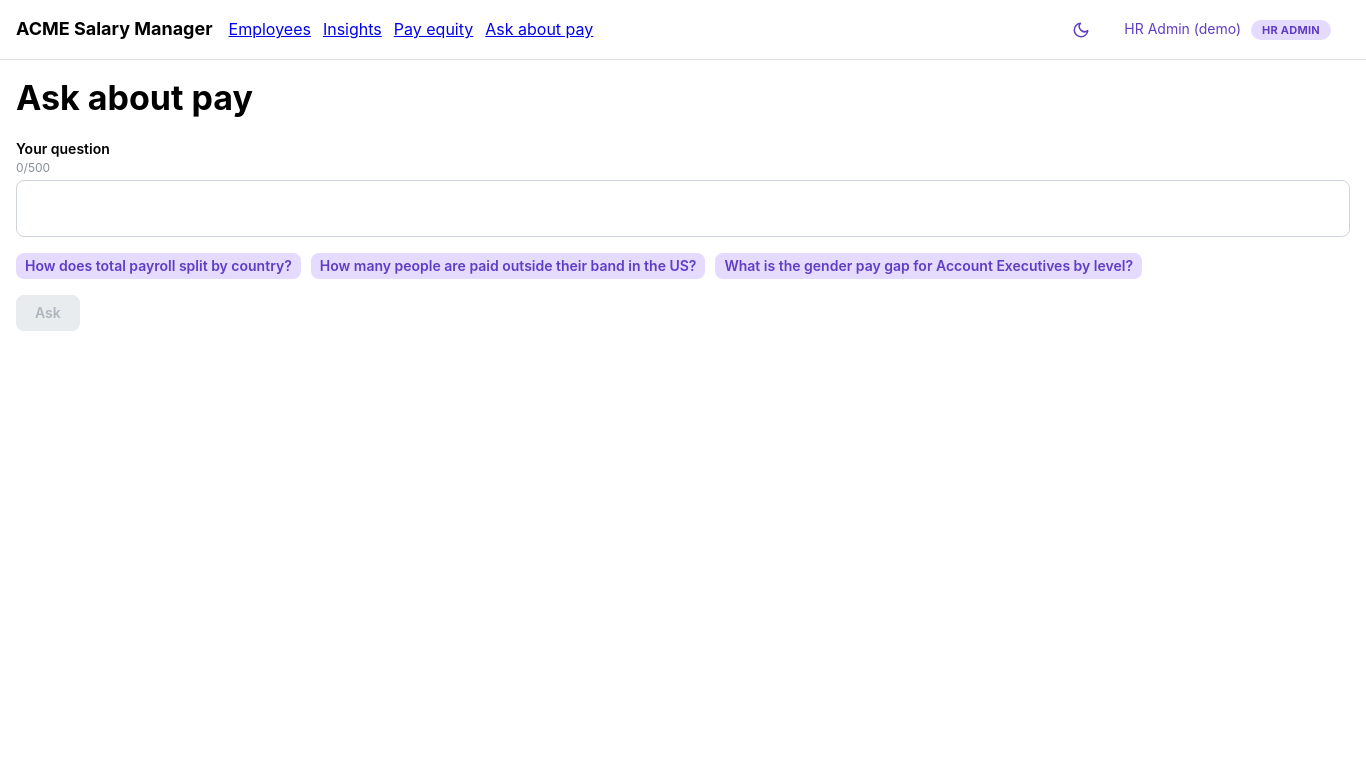
Test case: ask page (04 section 8.5, S-10) › shows the answer, the "How I read your question" list and the FX note
Type "What is the median salary for senior software engineers in India?" into the text box labelled "Your question" at point(683, 209), box 16,180 -> 1350,237
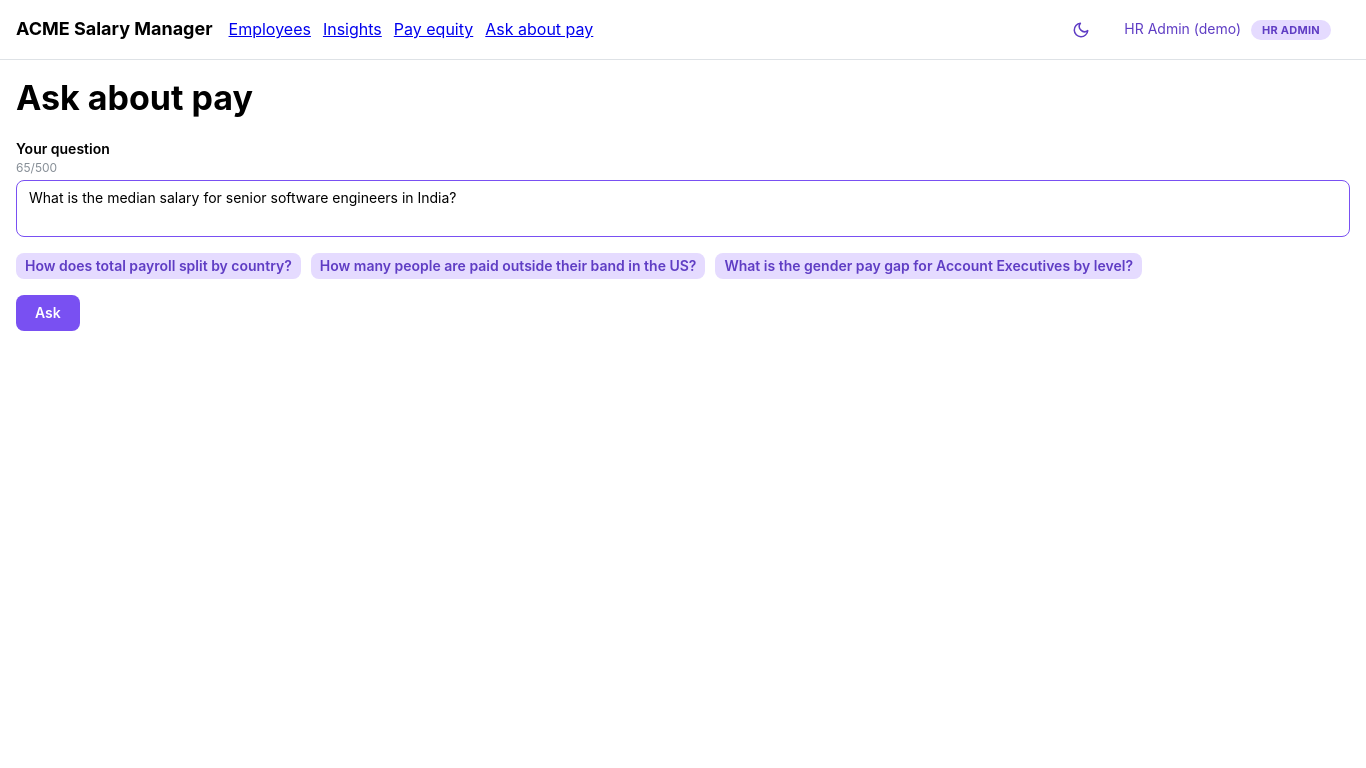
Click the button "Ask" at point(48, 313), box 16,295 -> 80,331
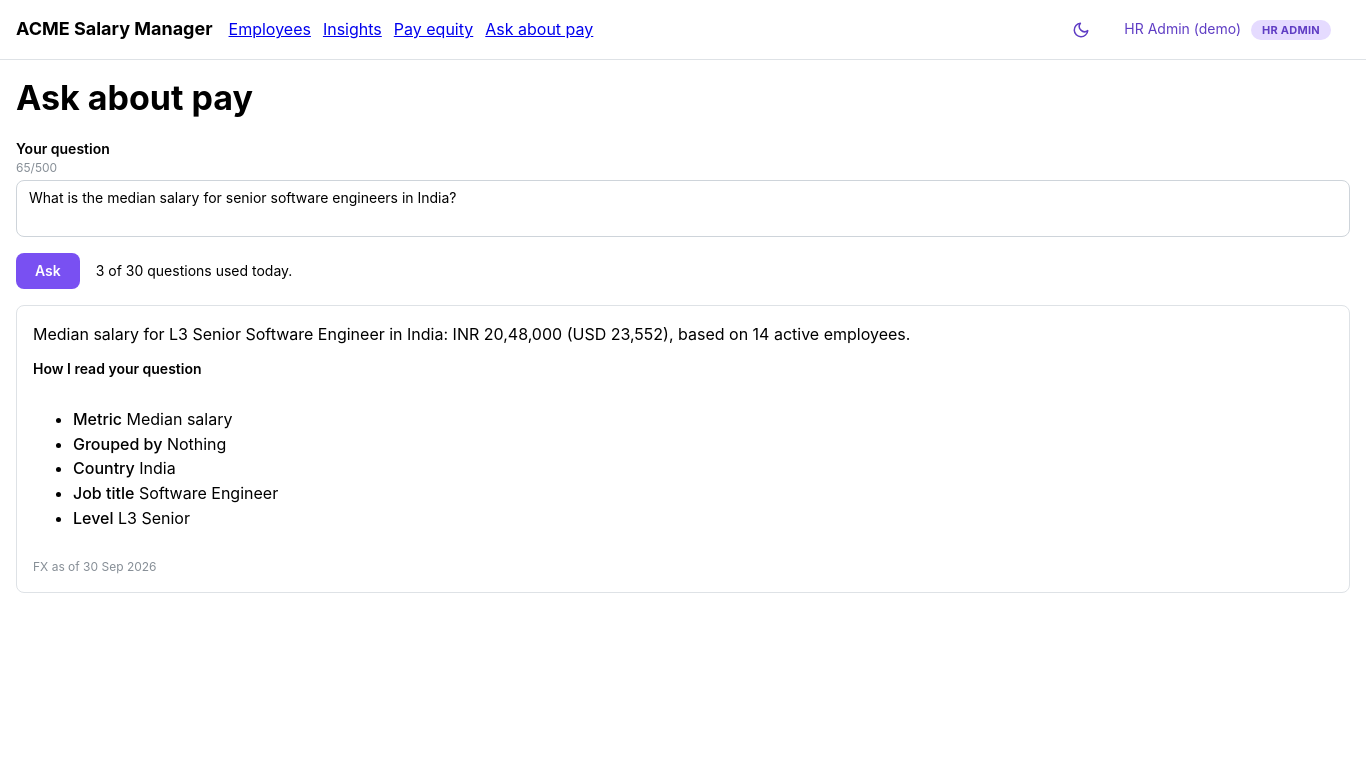
Expected: the text "Median salary for L3 Senior Software Engineer in India" is shown, 33,324 -> 910,344
Expected: the text "Metric" is shown, 73,409 -> 122,429
Expected: the text "Median salary" is shown, 126,409 -> 232,429
